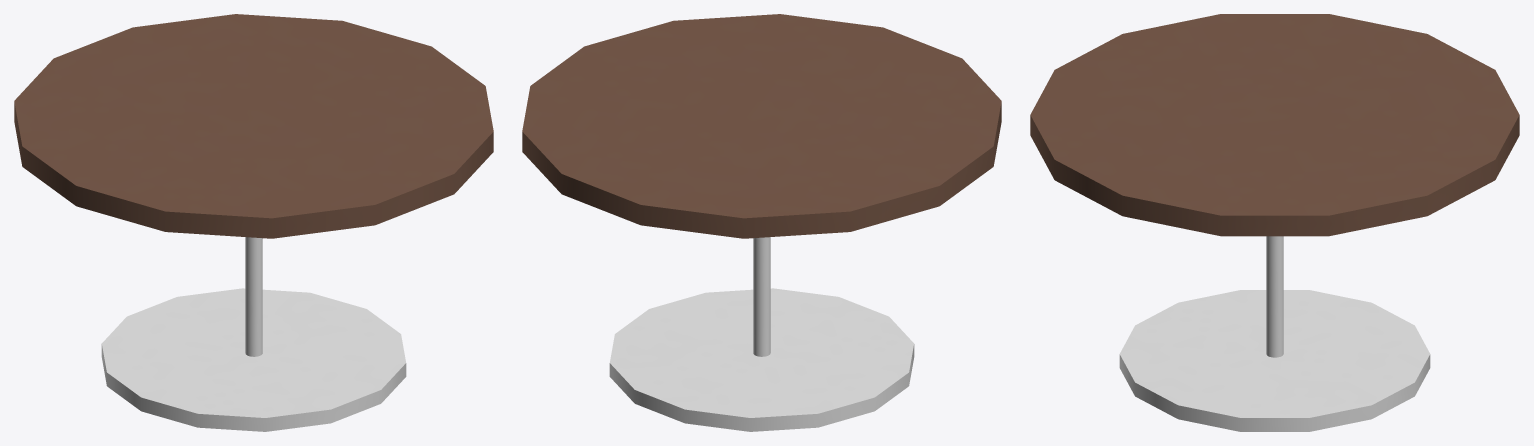
File: Table_01_03.fbx
The picture shows the model from 3 angles, left to right: view 1: azimuth 30°, elevation 25°; view 2: azimuth 150°, elevation 25°; view 3: azimuth 270°, elevation 25°; orthographic projection.
Visible parts, largest first — view 1: Table_01_03; view 2: Table_01_03; view 3: Table_01_03.
Boxes of the visible parts, <box> form: Table_01_03: <box>14,14,493,431</box>; Table_01_03: <box>522,14,1001,431</box>; Table_01_03: <box>1030,14,1519,431</box>.
Size of the model in its own units: 1.36 by 0.7993 by 1.4.
